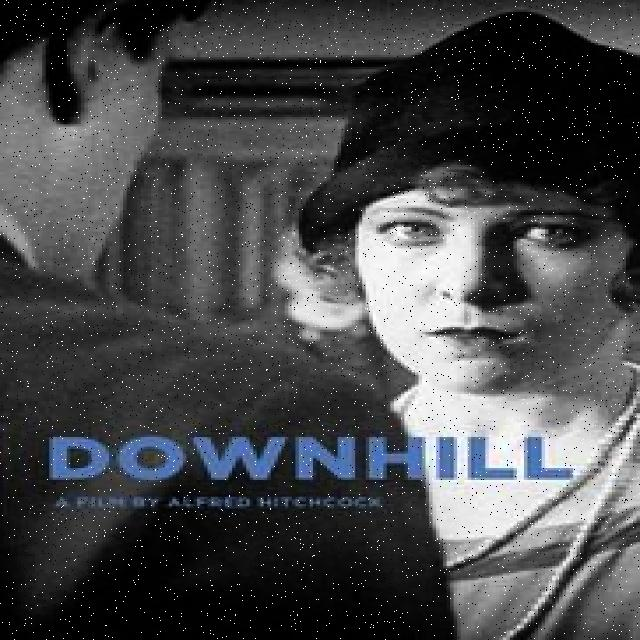movie-judul: (3, 2, 640, 639), (38, 409, 593, 538)
